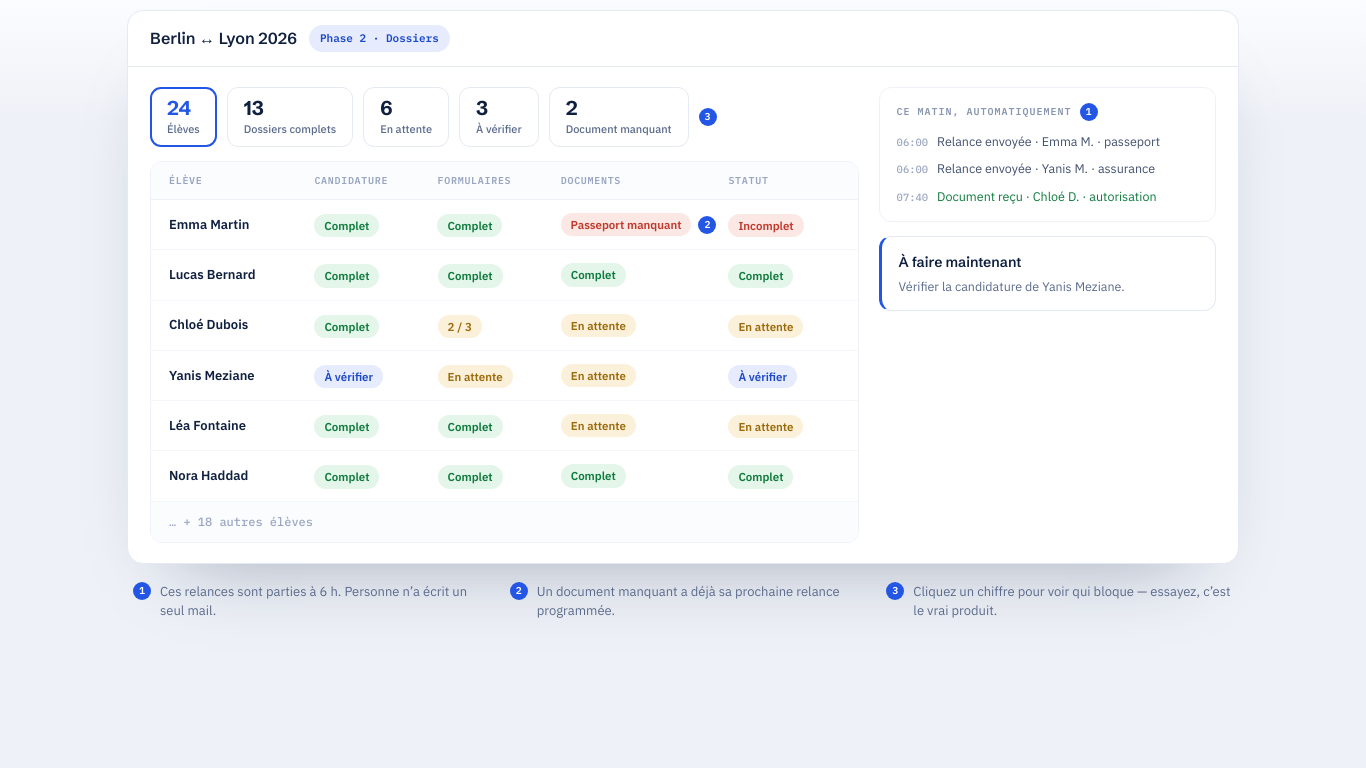
Test: ProductSlice funnel filter › marks the active chip with aria-pressed and can return to all students
Click the button "13 Dossiers complets". click: {"x": 290, "y": 117}
box: top-left (227, 86), bottom-right (353, 147)
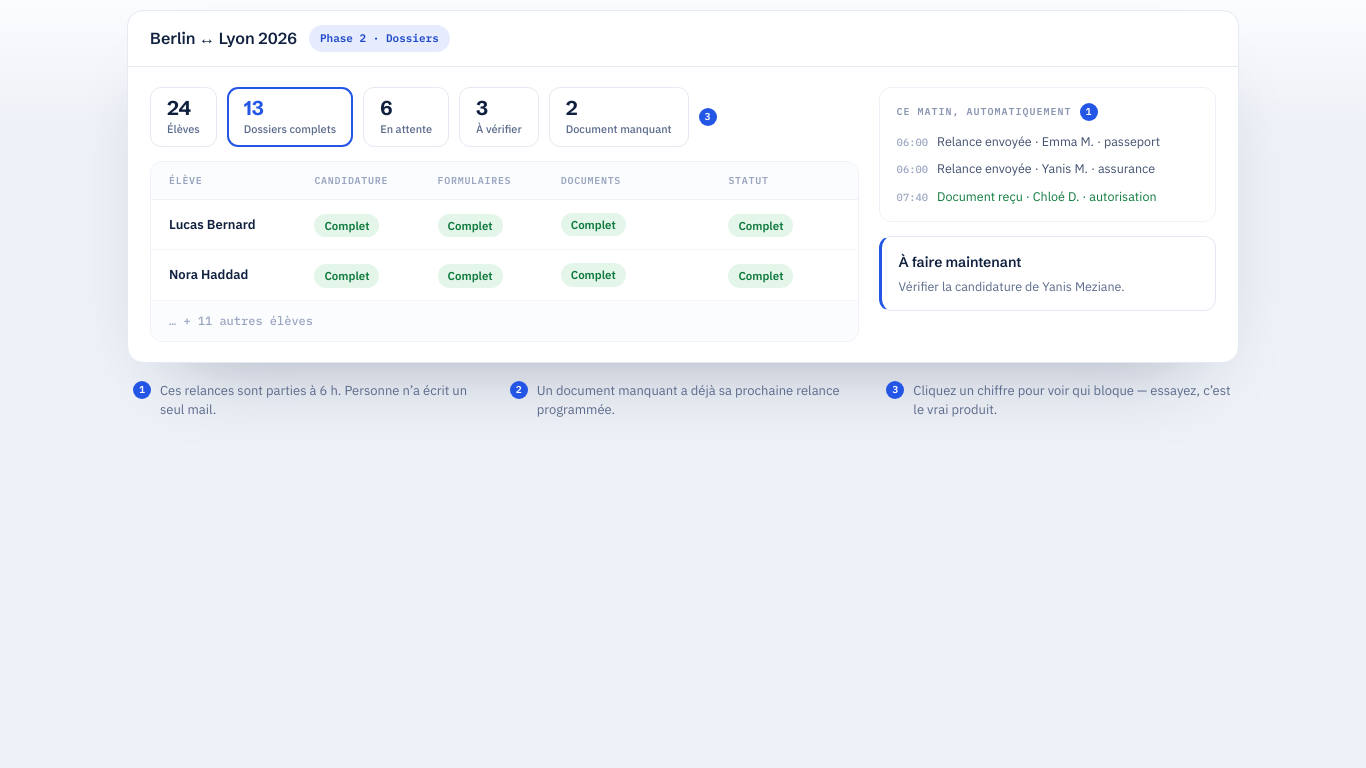
Expected: the text "Lucas Bernard" is shown, top-left (169, 216), bottom-right (256, 233)
Expected: the text "Emma Martin" is gone
Expected: the text "… + 11 autres élèves" is shown, top-left (151, 300), bottom-right (858, 340)
Click the button "24 Élèves". click: {"x": 183, "y": 117}
box: top-left (150, 86), bottom-right (217, 147)
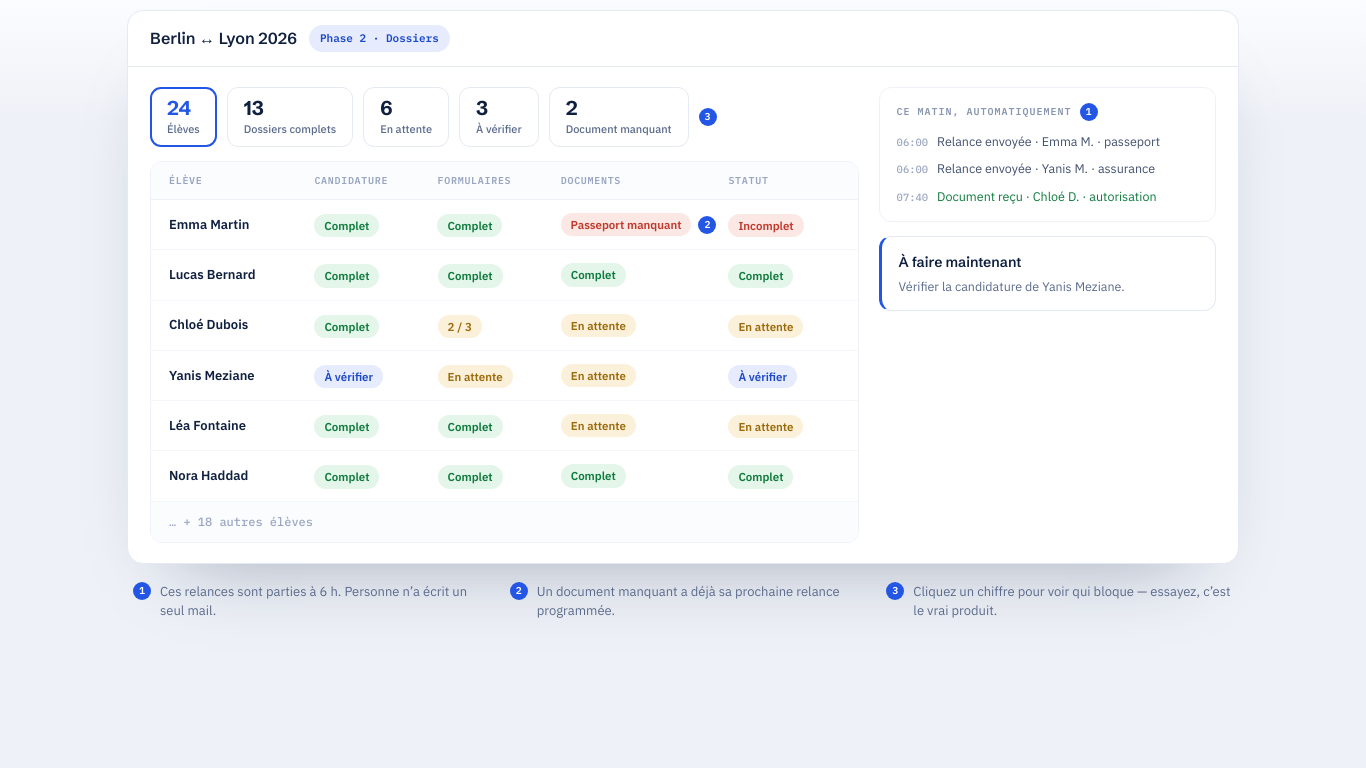
Expected: the text "Emma Martin" is shown, top-left (169, 216), bottom-right (249, 233)
